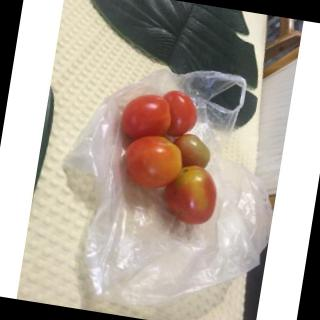Tomat: (99, 70, 244, 248)
